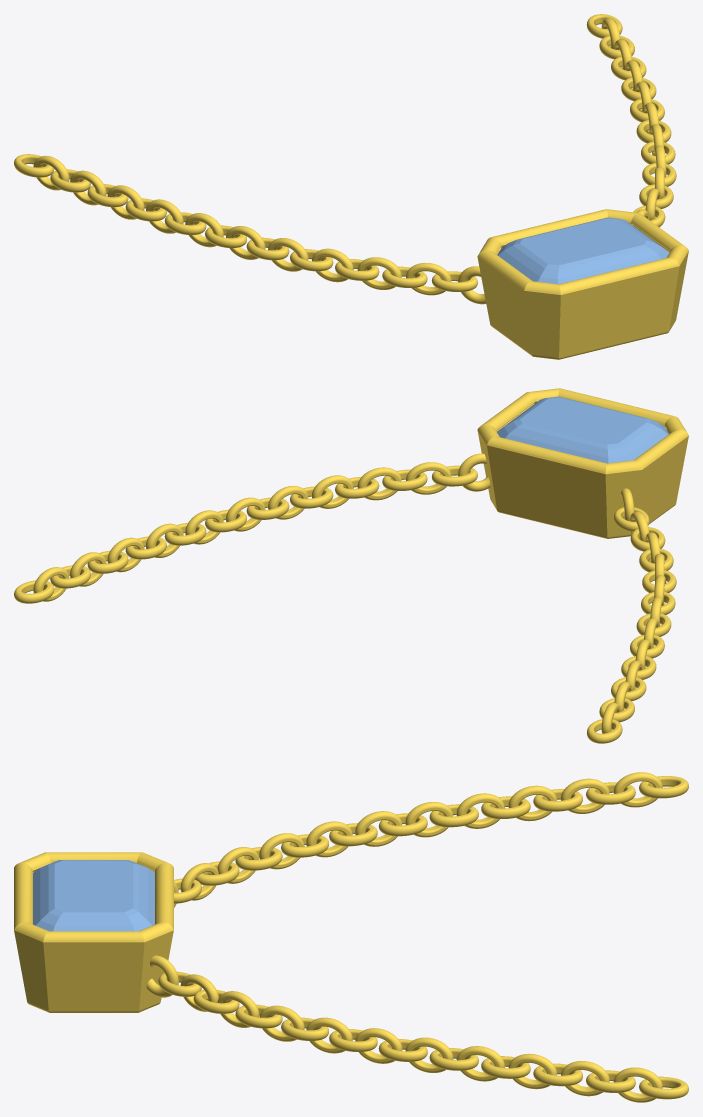
The picture shows the model from 3 angles, top to bottom: view 1: azimuth 30°, elevation 25°; view 2: azimuth 150°, elevation 25°; view 3: azimuth 270°, elevation 25°; orthographic projection. The views are drawn at different scales.
Visible parts, largest first — view 1: SP-7-1CT DOUBLE JOINT HALF CHAIN.3dm, Diamond_Emerald; view 2: SP-7-1CT DOUBLE JOINT HALF CHAIN.3dm, Diamond_Emerald; view 3: SP-7-1CT DOUBLE JOINT HALF CHAIN.3dm, Diamond_Emerald.
Boxes of the visible parts, x1,y1,x2,y2 form: SP-7-1CT DOUBLE JOINT HALF CHAIN.3dm: (14,14,688,359); Diamond_Emerald: (497,217,669,284); SP-7-1CT DOUBLE JOINT HALF CHAIN.3dm: (14,388,688,743); Diamond_Emerald: (497,396,668,463); SP-7-1CT DOUBLE JOINT HALF CHAIN.3dm: (14,772,688,1102); Diamond_Emerald: (33,860,154,931).
Bounding box in the file's own units: 2.96 × 0.3921 × 2.66.
